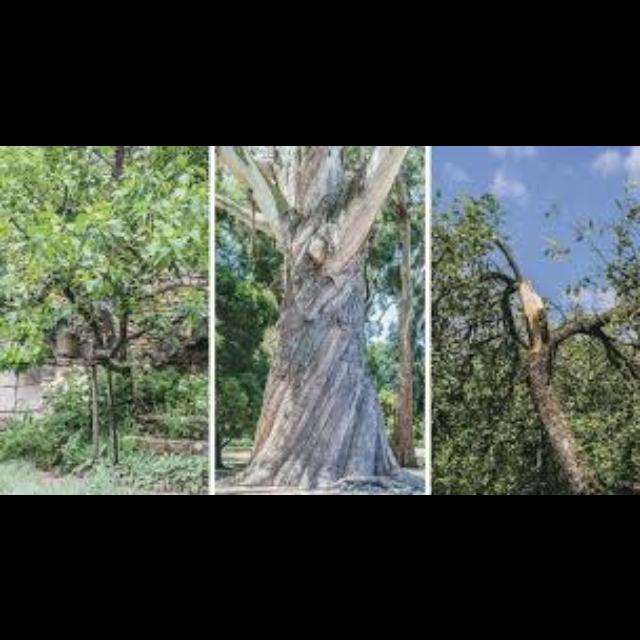Fallen Tree: (493, 268, 592, 494)
